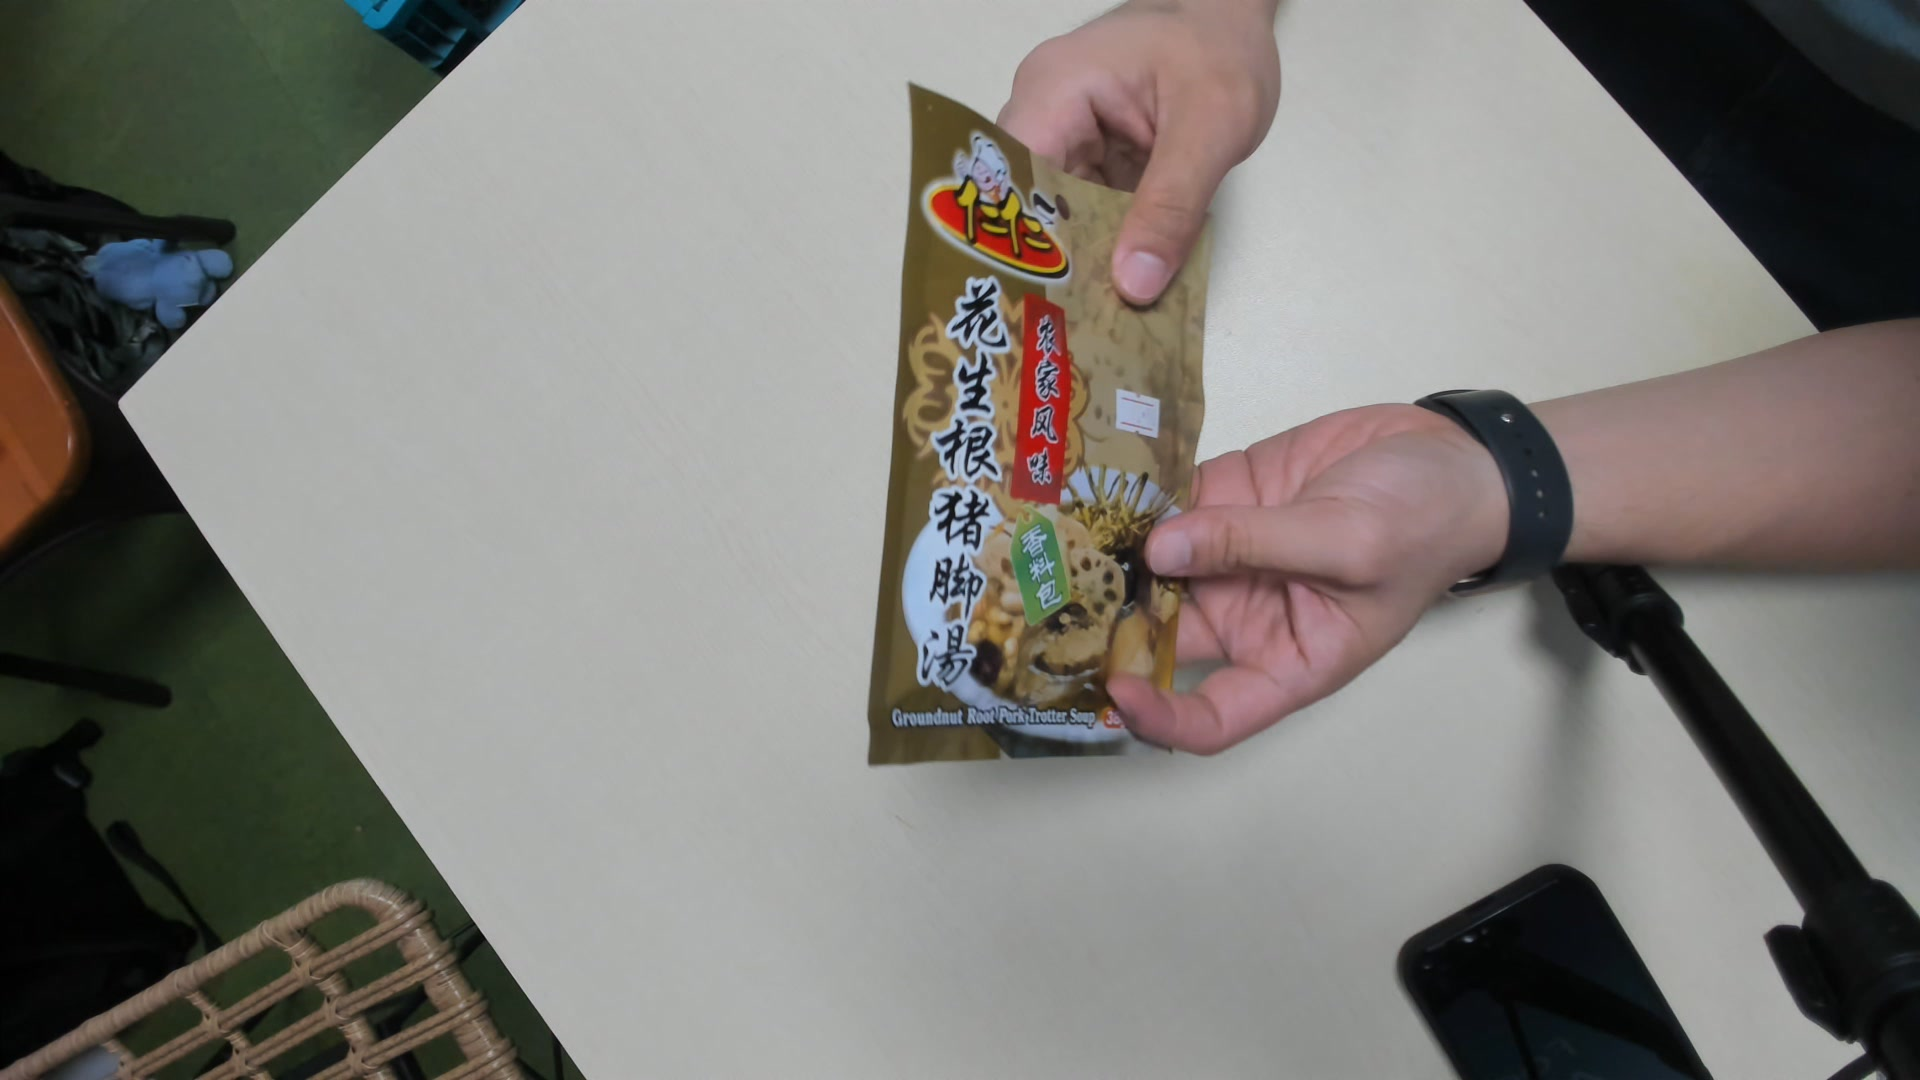OtherSauceDressing_0-99g_NonHalal_NonHealthy: (866, 73, 1222, 777)
